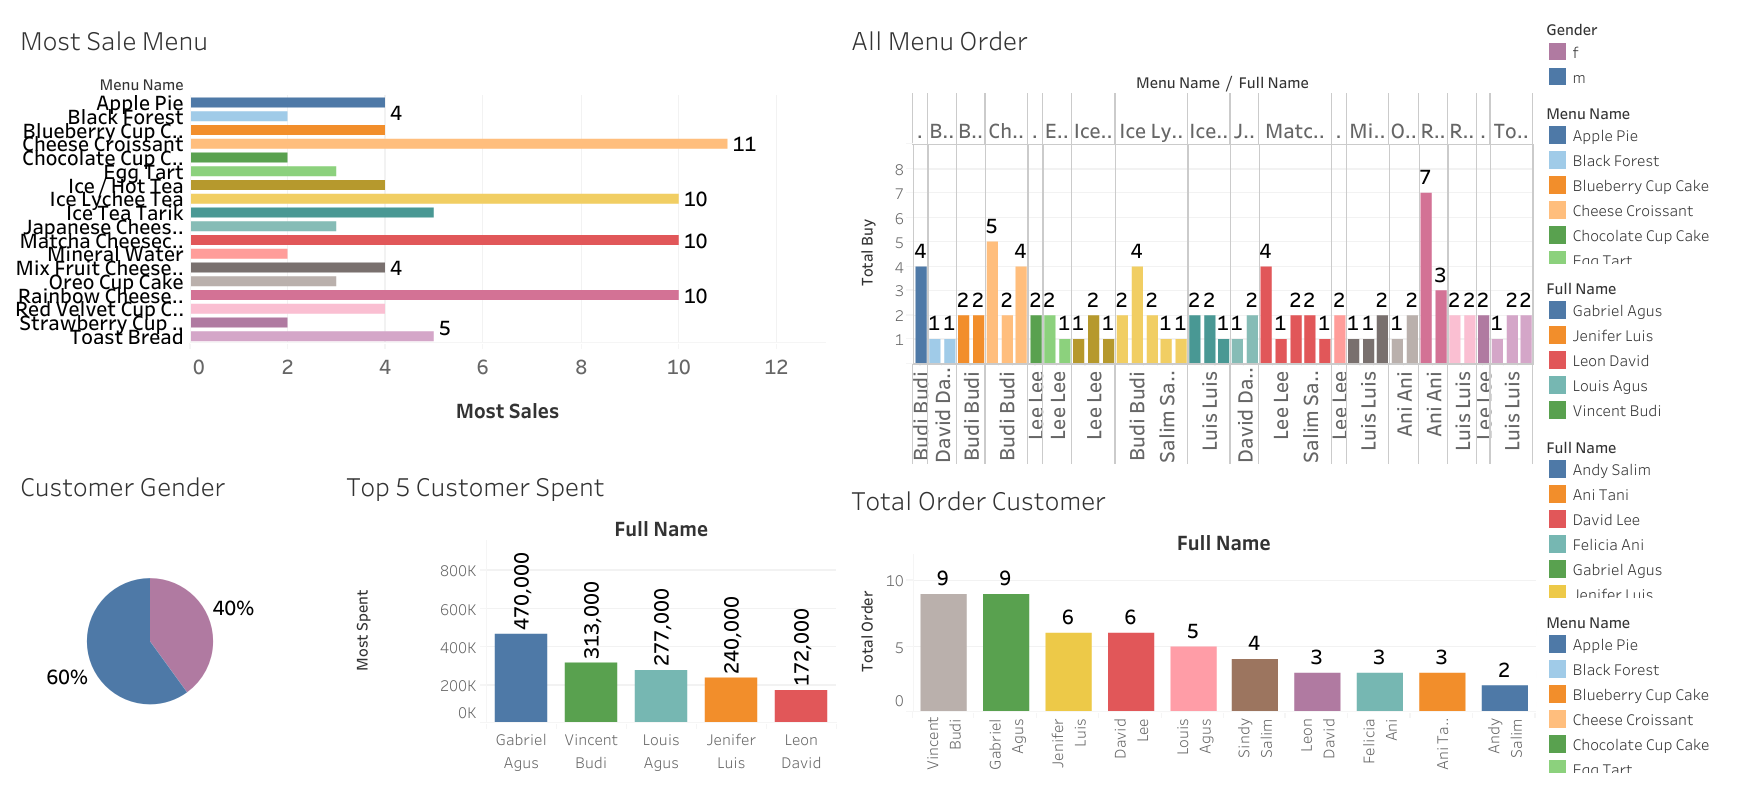

Layout of this report page (visuals, bound fields, positions):
{"tool":"tableau","page":{"name":"Dashboard 1","canvas":[1000,1000],"units":"permille","ordinal":0},"visuals":[{"type":"worksheet","title":"Most Sale Menu","mark":"Automatic","rows":["menu_name"],"cols":["most_order"],"box":[6,11.8,455.9,559.6]},{"type":"worksheet","title":"All Menu Order","mark":"Automatic","rows":["total_buy"],"cols":["menu_name","Calculation_1965821273126227969"],"box":[461.9,11.8,411.3,559.6]},{"type":"legend","title":"Customer Gender","param":"[federated.1x2pnsd08srfaz15cwrpt1k5jzwx].[none:gender:nk]","box":[873.2,11.8,120.8,97.2]},{"type":"legend","title":"Most Sale Menu","param":"[federated.1s5jn2j0deqwws17woojb1fxy5jt].[none:menu_name:nk]","box":[873.2,109,120.8,231.2]},{"type":"legend","title":"Top 5 Customer Spent","param":"[federated.0s3d4x21nqqw29185pp4h0gbduza].[none:Calculation_887209162354966528:nk","box":[873.2,340.2,120.8,185.6]},{"type":"legend","title":"Total Order Customer","param":"[federated.048yg340vwr3li1f6ehyo0plkph0].[none:Calculation_887209162356187137:nk","box":[873.2,525.8,120.8,231.2]},{"type":"worksheet","title":"Customer Gender","mark":"Pie","box":[6,571.4,204.5,416.8]},{"type":"worksheet","title":"Top 5 Customer Spent","mark":"Bar","rows":["most_spent"],"cols":["Calculation_887209162354966528"],"box":[210.6,571.4,251.3,416.8]},{"type":"worksheet","title":"Total Order Customer","mark":"Bar","rows":["total_order"],"cols":["Calculation_887209162356187137"],"box":[461.9,571.4,411.3,416.8]},{"type":"legend","title":"All Menu Order","param":"[federated.0uvibvg11nqszd10f5nkh1emnm5w].[none:menu_name:nk]","box":[873.2,757,120.8,231.2]}]}

Visuals, with their boxes on the dashboard's canvas, which has no fixed pixel size, in thousandths of its width and height (x1, y1, x2, y2). These are canvas units, not pixel positions in the 1749x786 screenshot, which may show the page scaled, cropped or inside an application window:
"Most Sale Menu" worksheet: rect(6, 12, 462, 571)
"All Menu Order" worksheet: rect(462, 12, 873, 571)
"Customer Gender" legend: rect(873, 12, 994, 109)
"Most Sale Menu" legend: rect(873, 109, 994, 340)
"Top 5 Customer Spent" legend: rect(873, 340, 994, 526)
"Total Order Customer" legend: rect(873, 526, 994, 757)
"Customer Gender" worksheet (Pie marks): rect(6, 571, 210, 988)
"Top 5 Customer Spent" worksheet (Bar marks): rect(211, 571, 462, 988)
"Total Order Customer" worksheet (Bar marks): rect(462, 571, 873, 988)
"All Menu Order" legend: rect(873, 757, 994, 988)
